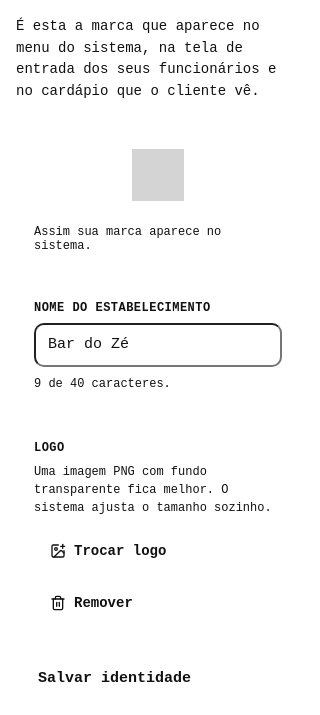
IdentidadeTab, gravação › erro da RPC aparece na tela e NÃO vira sucesso
This screenshot has width=320, height=715.
Replace the text in the field labelled "Nome do estabelecimento" with "Cantina Nova". click: (158, 345)
box: [34,323,282,367]
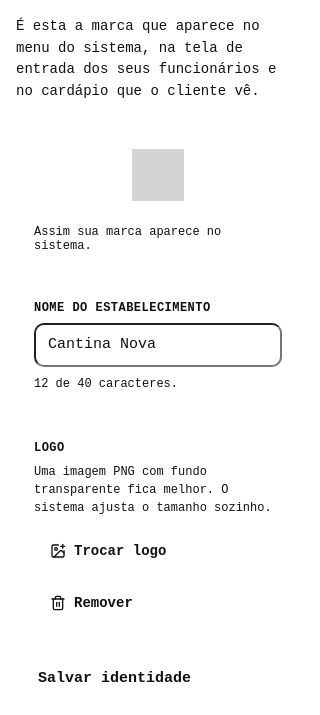
Click the button "Salvar identidade". click: (114, 679)
box: [16,655,213,703]
(page scrolled)
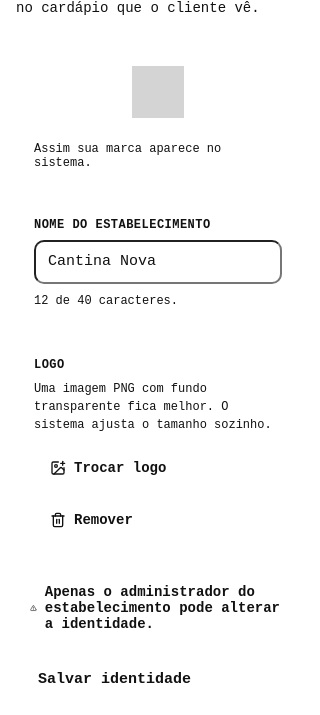
Expected: the message shows "Apenas o administrador", [45,584,280,632]
